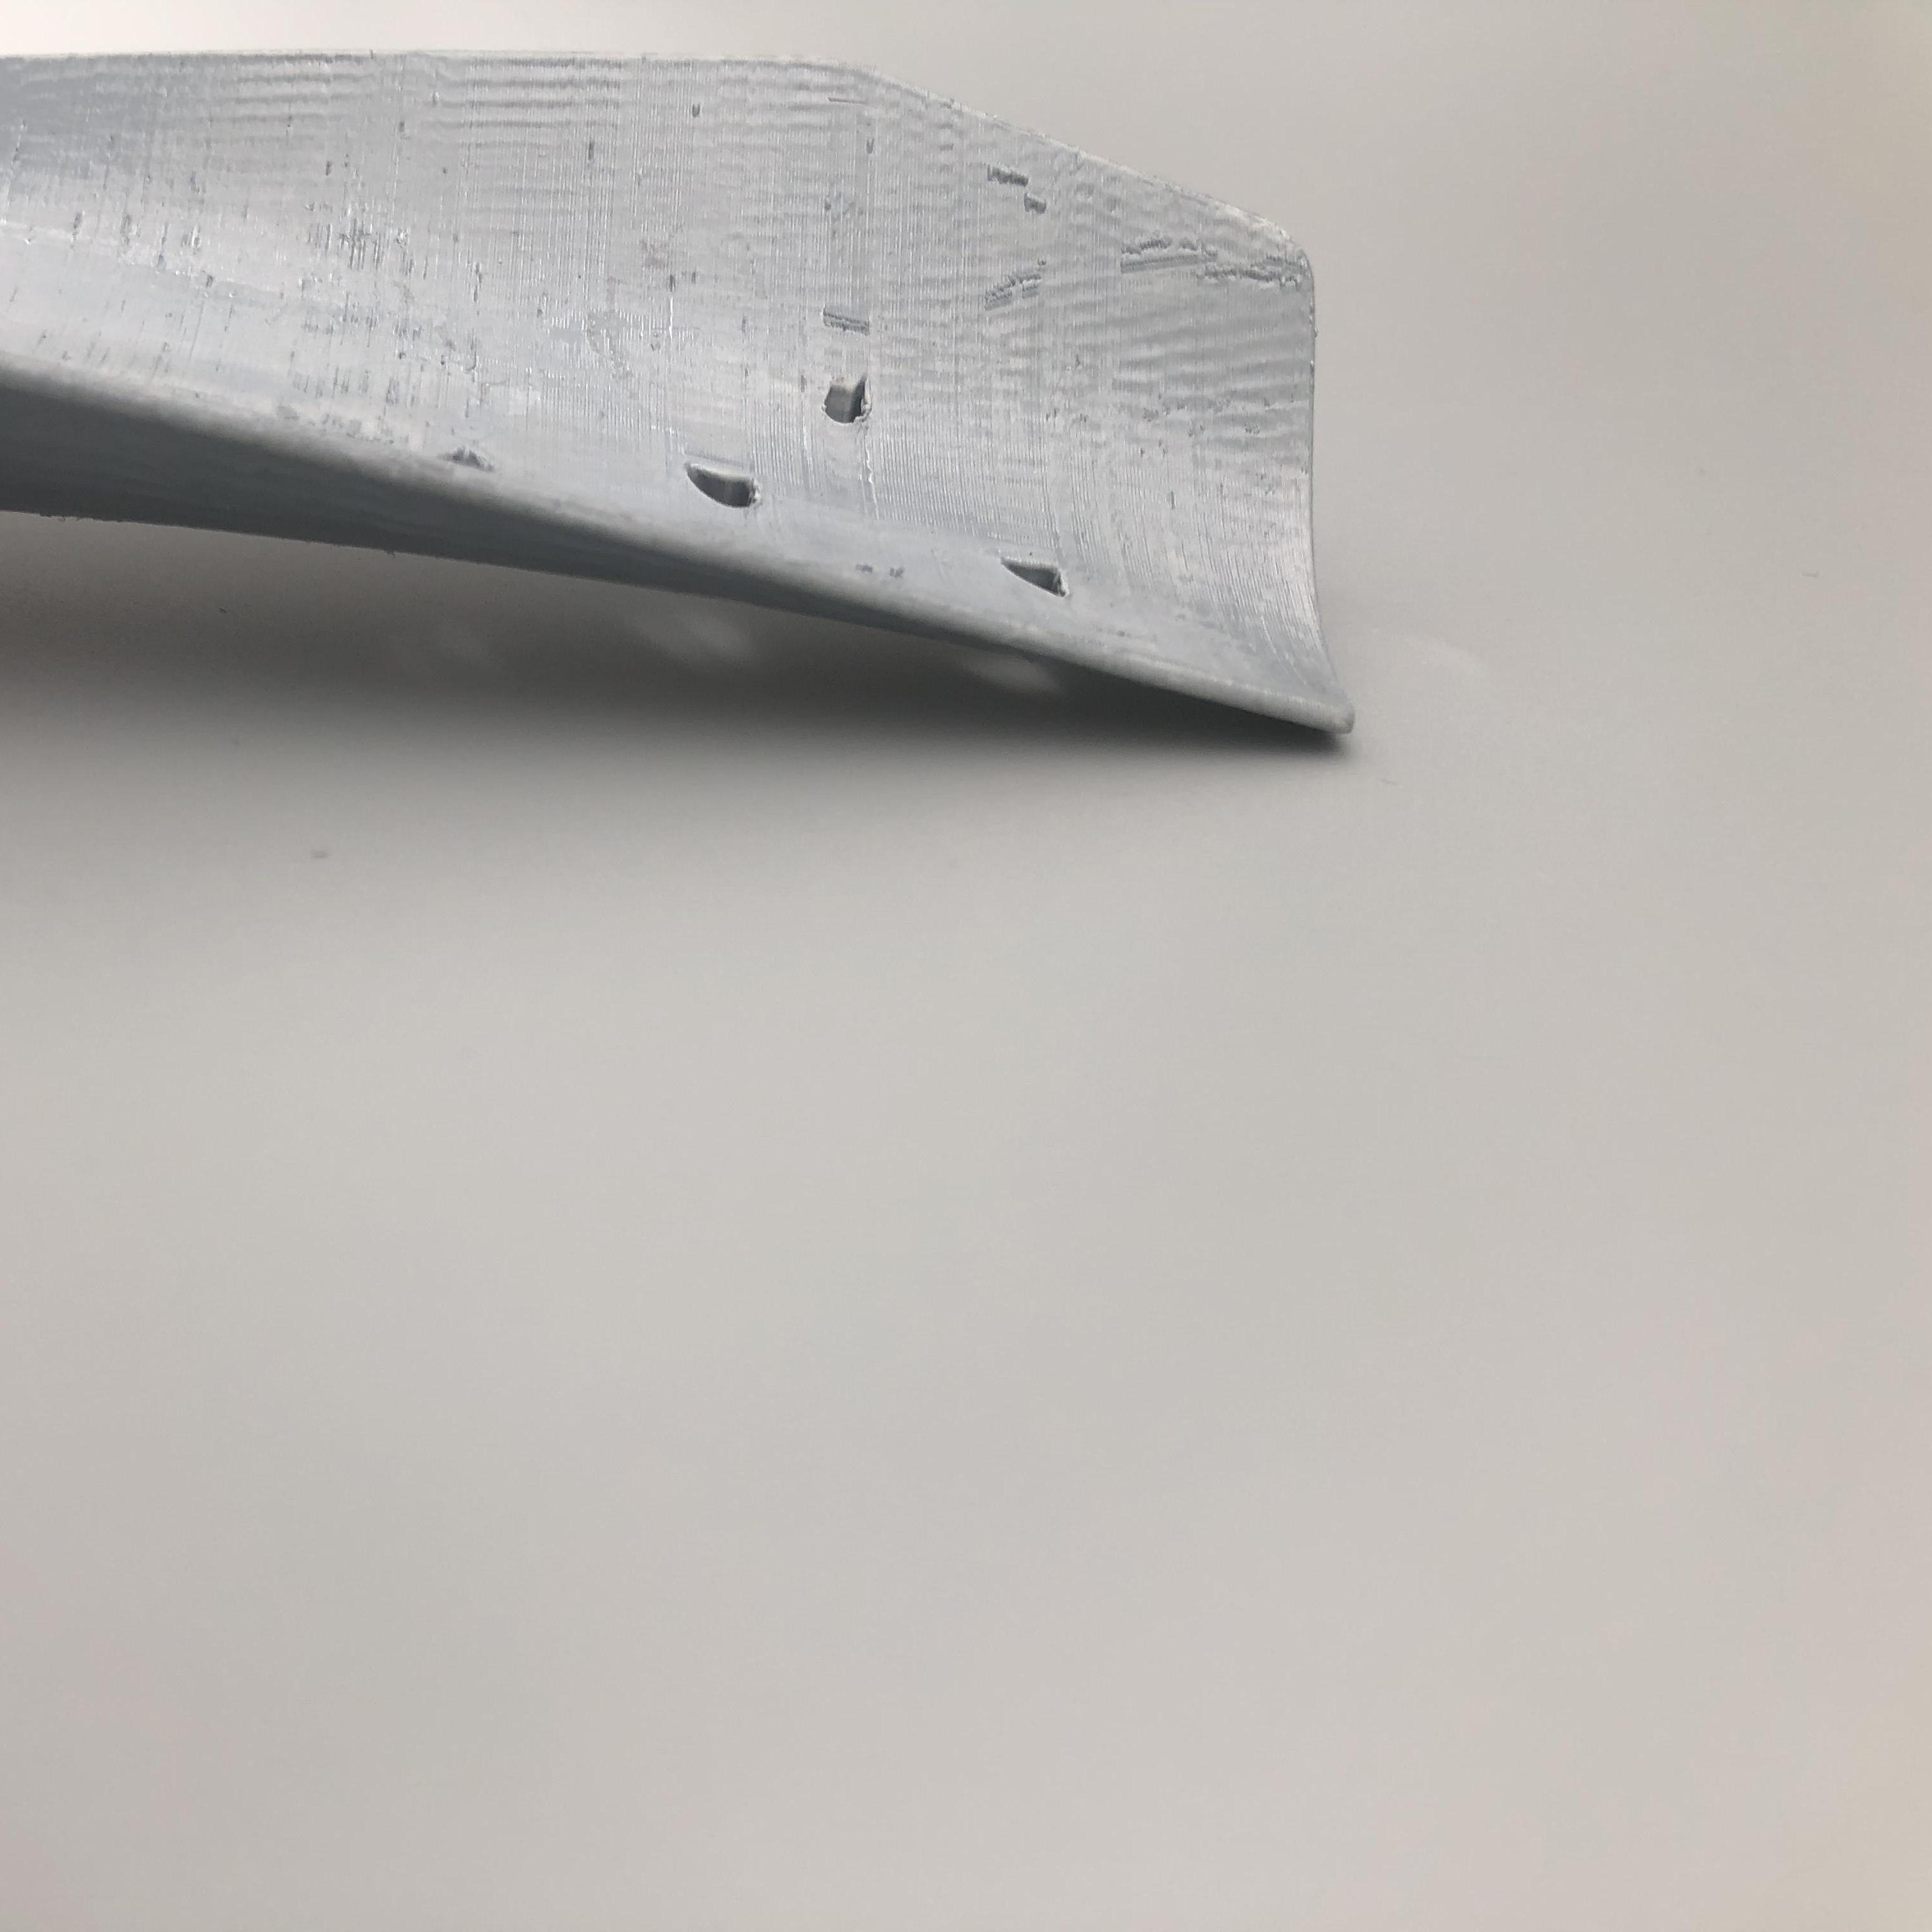breakdown: (639, 379, 1081, 603), (435, 437, 513, 487)
